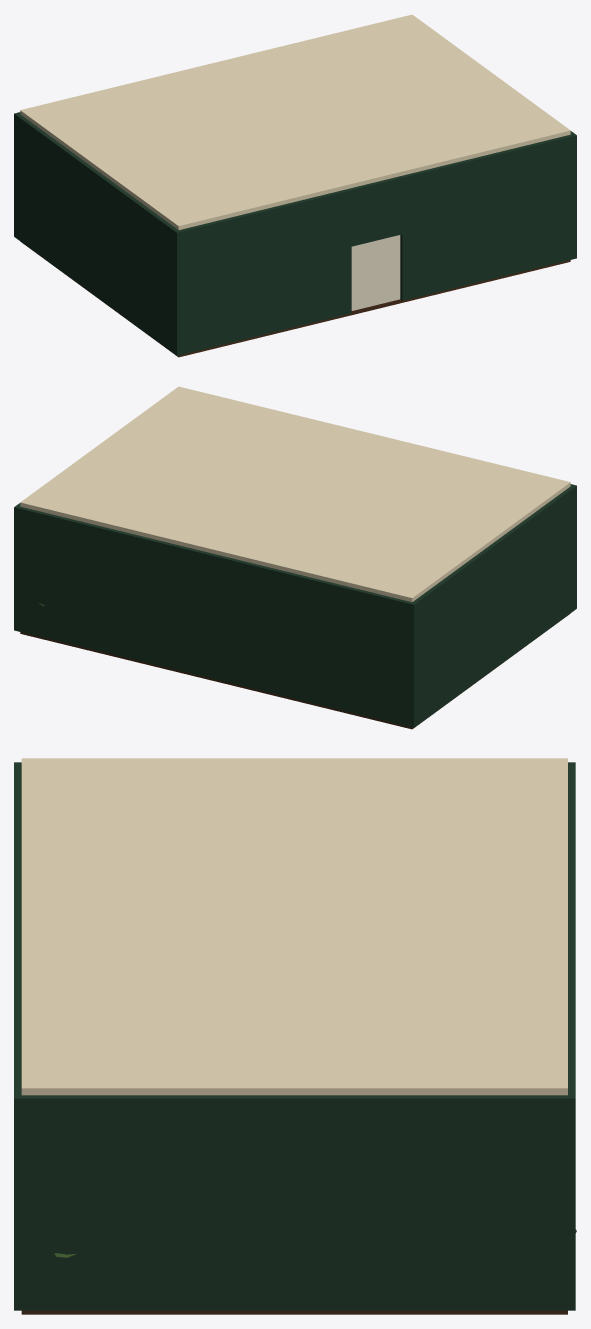
File: lobby.glb
3 views of the same model, one above another, from view 1: azimuth 30°, elevation 25°; view 2: azimuth 150°, elevation 25°; view 3: azimuth 270°, elevation 25° (orthographic). The views are drawn at different scales.
Visible parts, largest first — view 1: Lobby_Room, Door_Exit; view 2: Lobby_Room; view 3: Lobby_Room.
Part boxes in pixels (box(x1,y1,x2,y2)): Lobby_Room: box(14, 14, 576, 357); Door_Exit: box(351, 235, 400, 310); Lobby_Room: box(14, 386, 576, 729); Lobby_Room: box(14, 758, 575, 1314).
Size of what is drawn, in the model's own units: 20.55 by 6.4 by 14.43.
